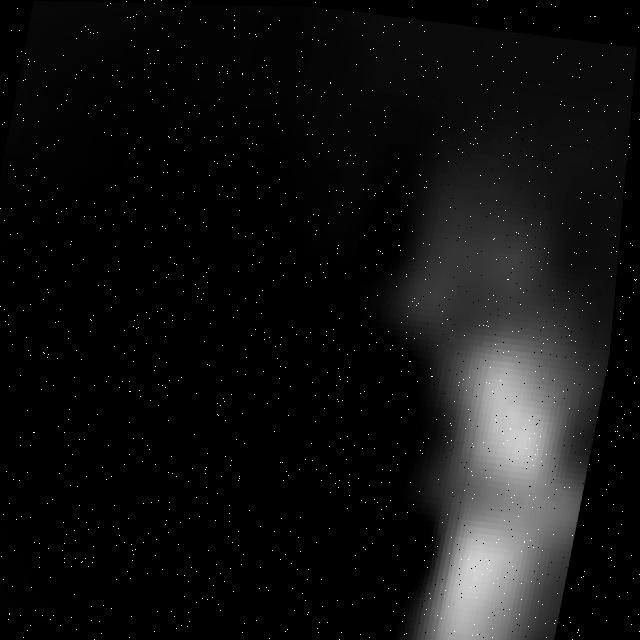person: (304, 97, 635, 640)
